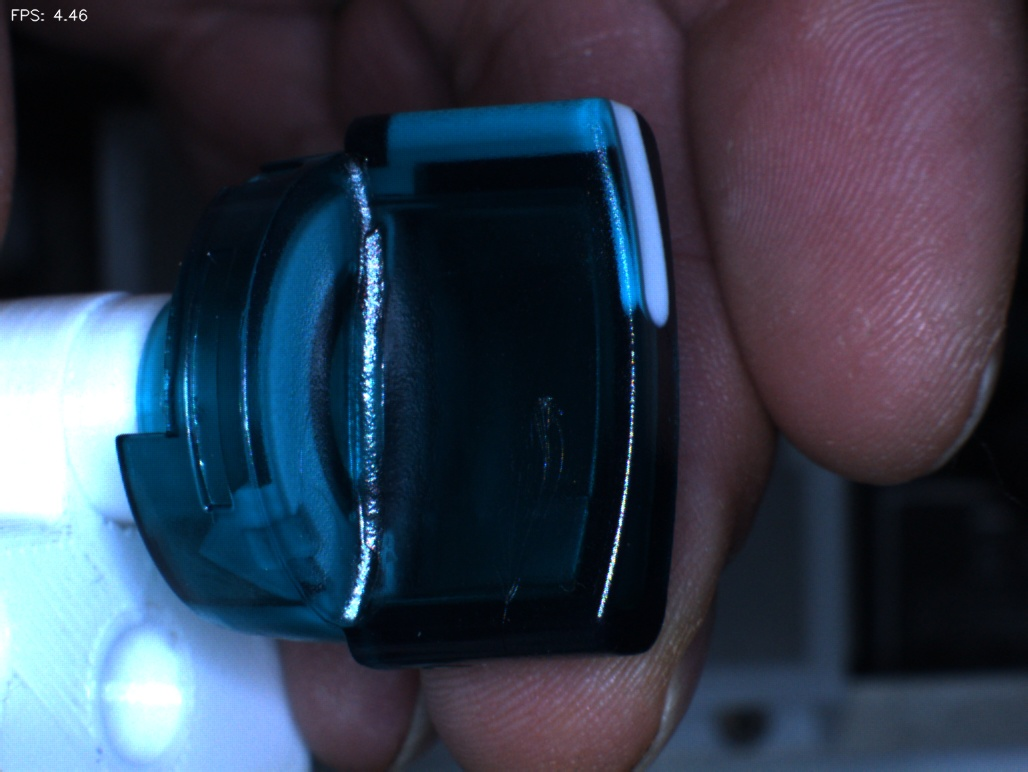Givrage: (478, 386, 588, 628)
